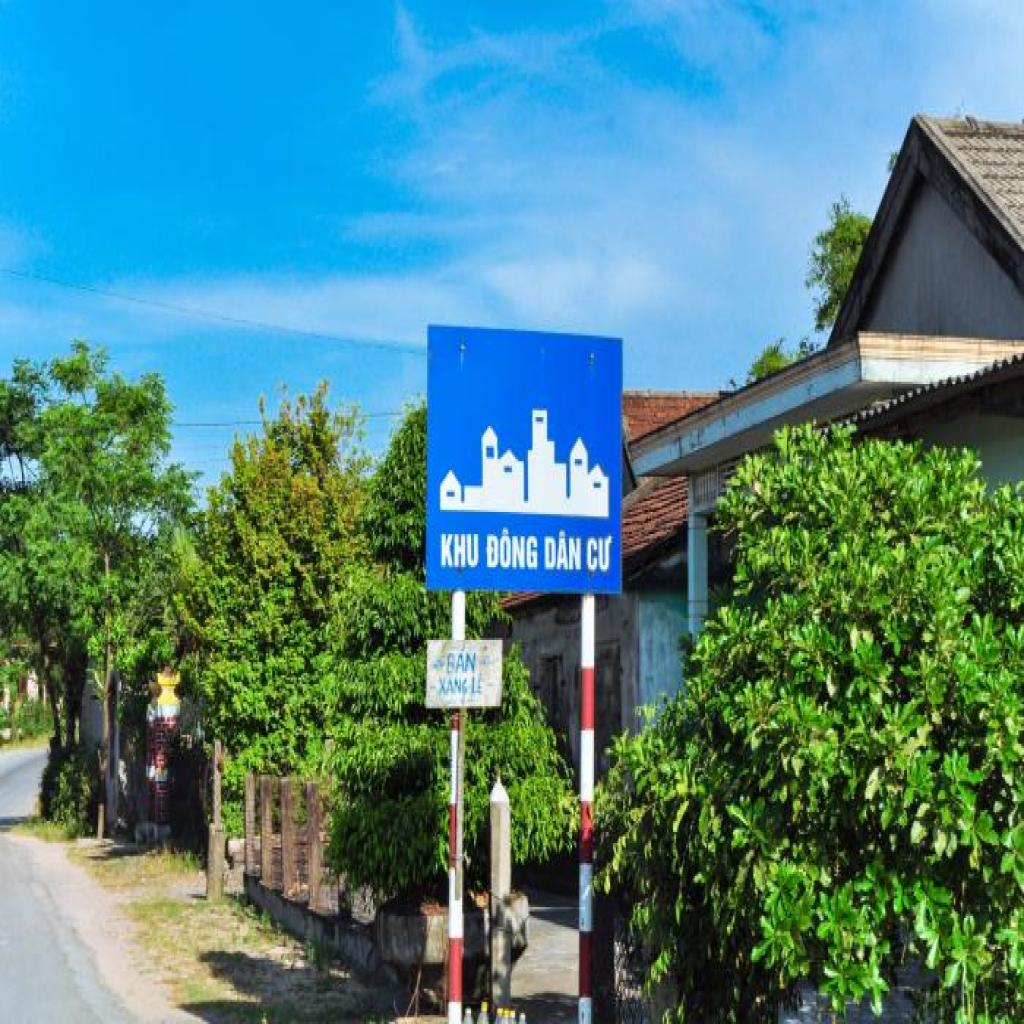text: (486, 527, 541, 574), (542, 530, 584, 572), (439, 532, 481, 571), (585, 534, 615, 576), (446, 644, 480, 678), (438, 673, 470, 697)
